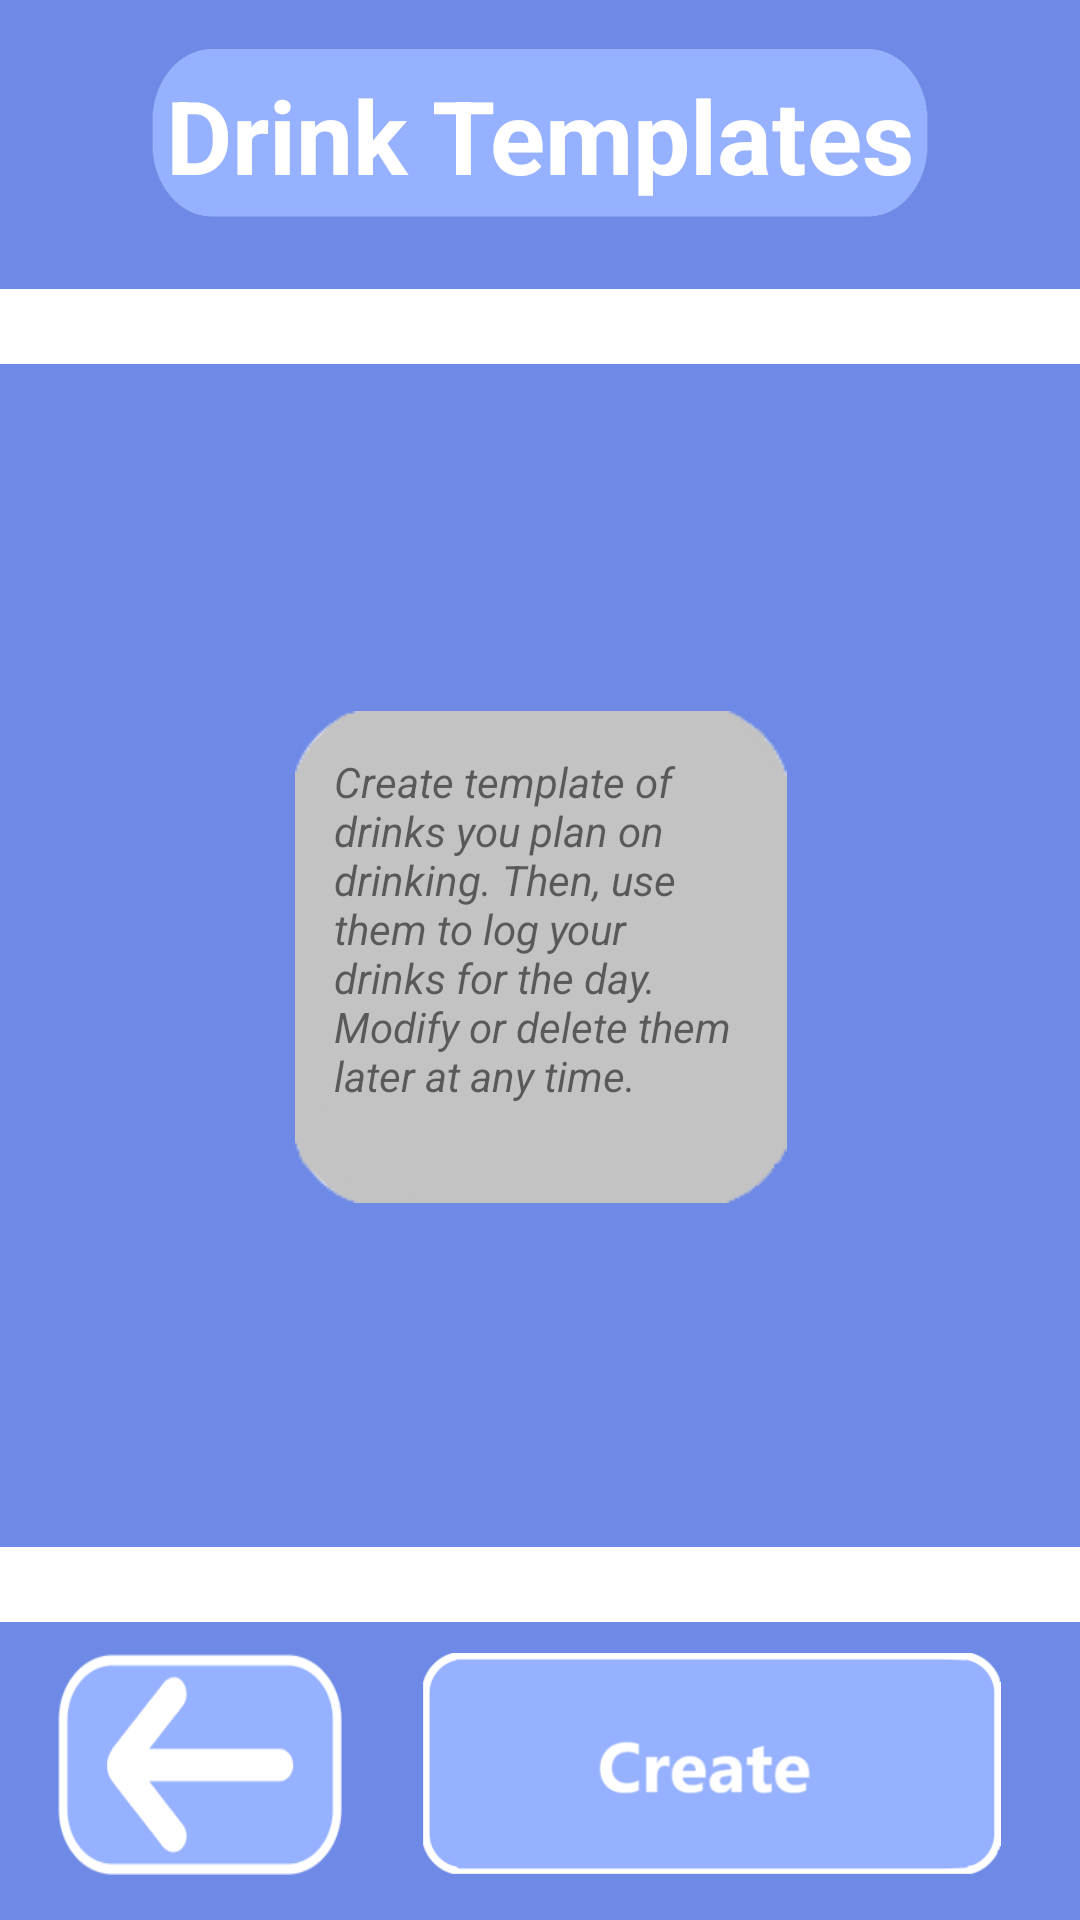

Icon bounding boxes for this 1080×1920 phone screenshot, format (x1,y1,x2,y2):
arrow not clicked: (58,1654,342,1875)
